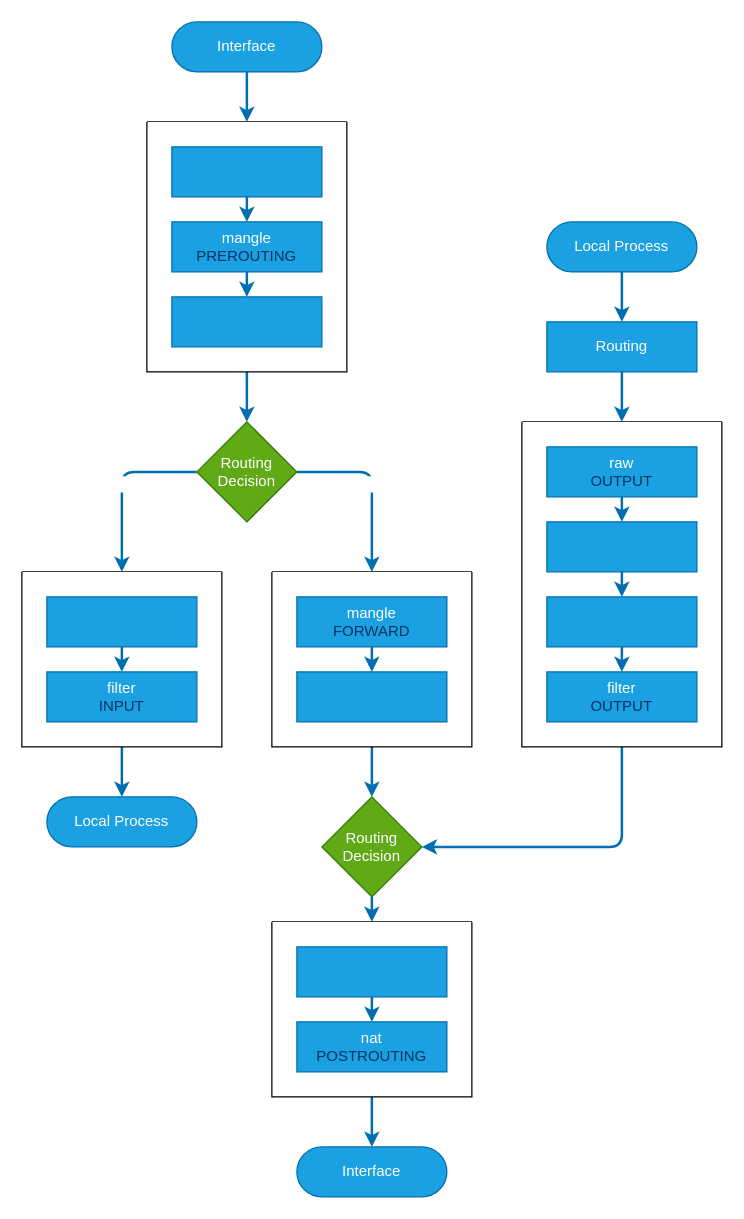
This 744x1219 diagram has some shape labels left out. Each missing label, with the centre of its shape:
"filter FORWARD" goes at (371,696).
"mangle INPUT" goes at (121,621).
"mangle OUTPUT" goes at (621,546).
"mangle POSTROUTING" goes at (371,971).
"nat OUTPUT" goes at (621,621).
"nat PREROUTING" goes at (246,321).
"raw PREROUTING" goes at (246,171).
